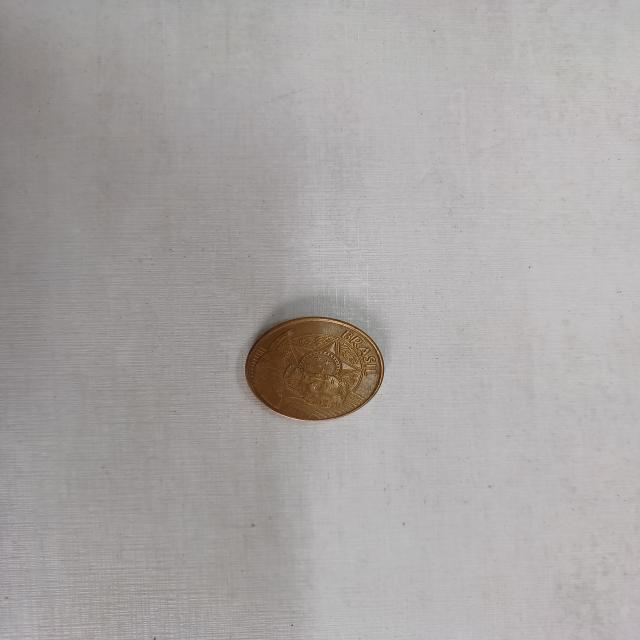25 cents: (240, 313, 394, 427)
